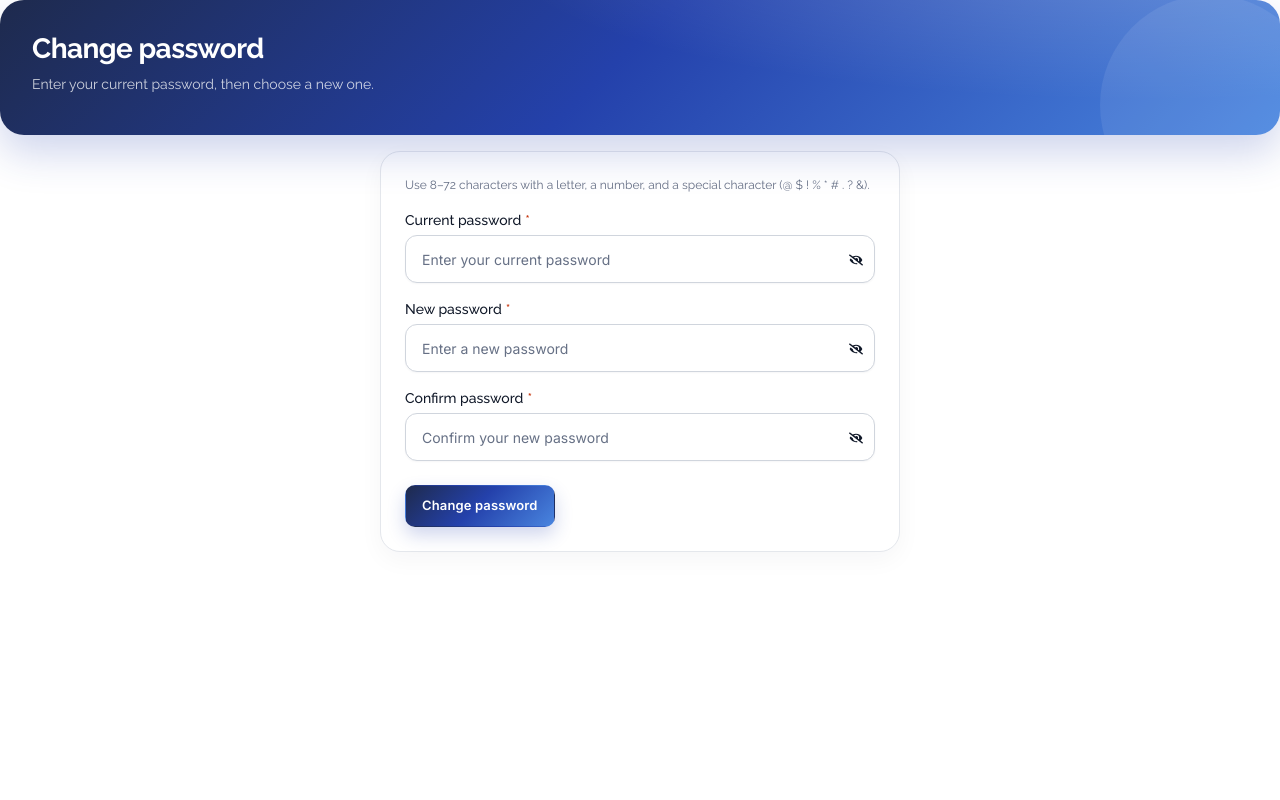
it: ChangePasswordPage › blocks submit when the new password matches the current password
Type "SamePassword1!" into the password field labelled "Current password" at (640, 259), box [405, 235, 875, 283]
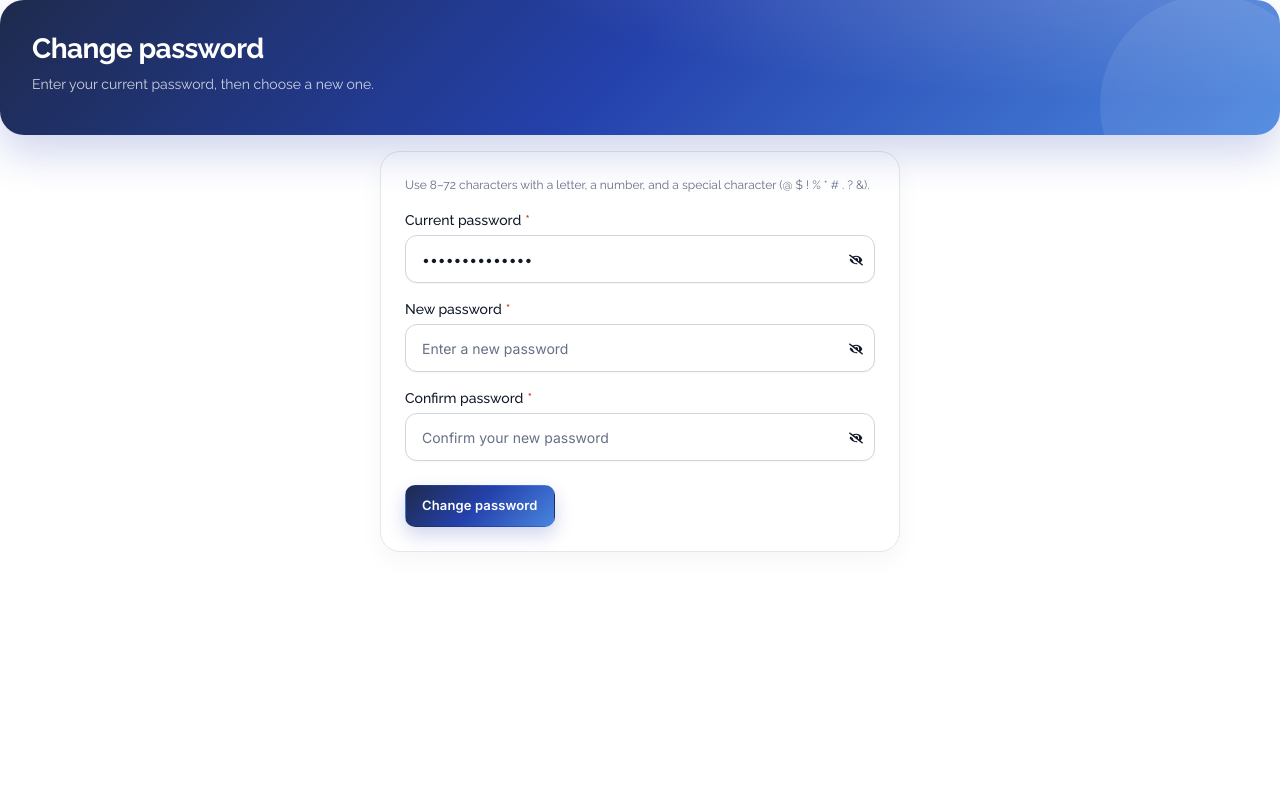
Type "SamePassword1!" into the password field labelled "New password" at (640, 348), box [405, 324, 875, 372]
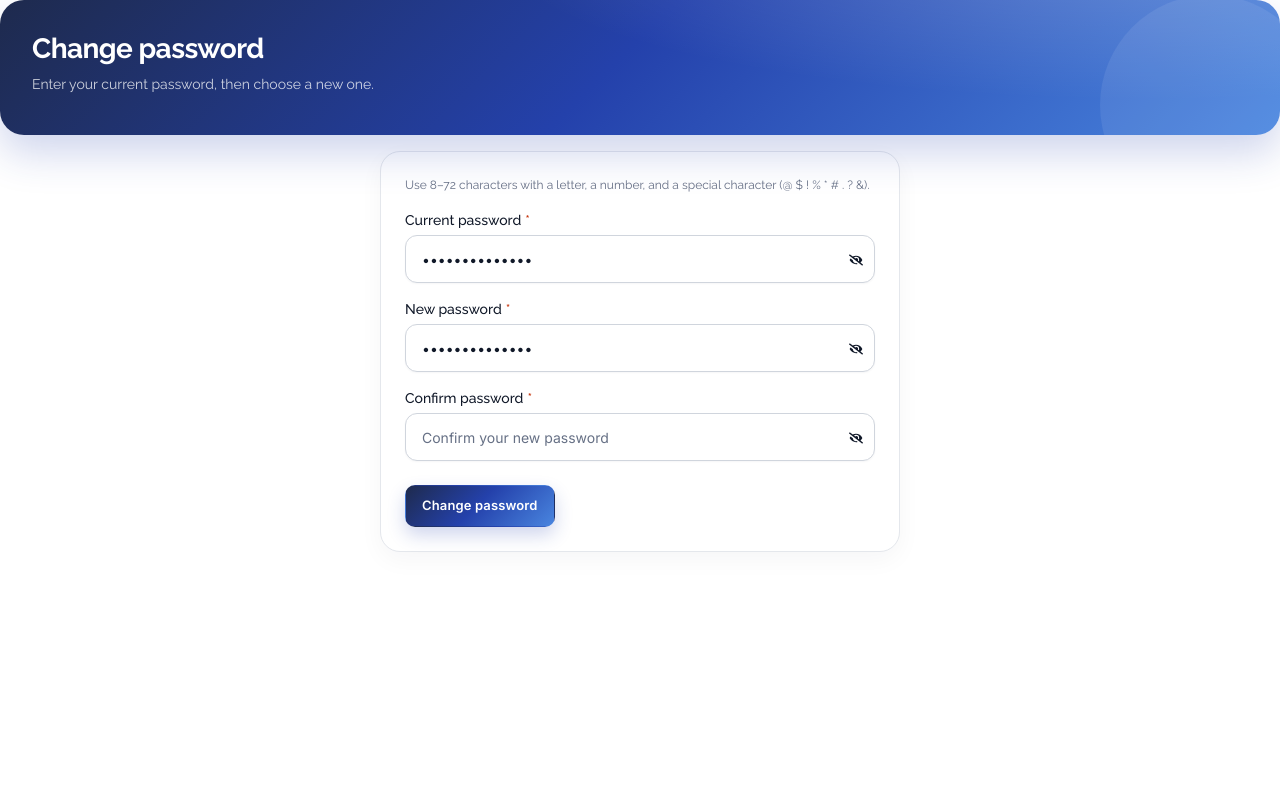
Type "SamePassword1!" into the password field labelled "Confirm password" at (640, 437), box [405, 413, 875, 461]
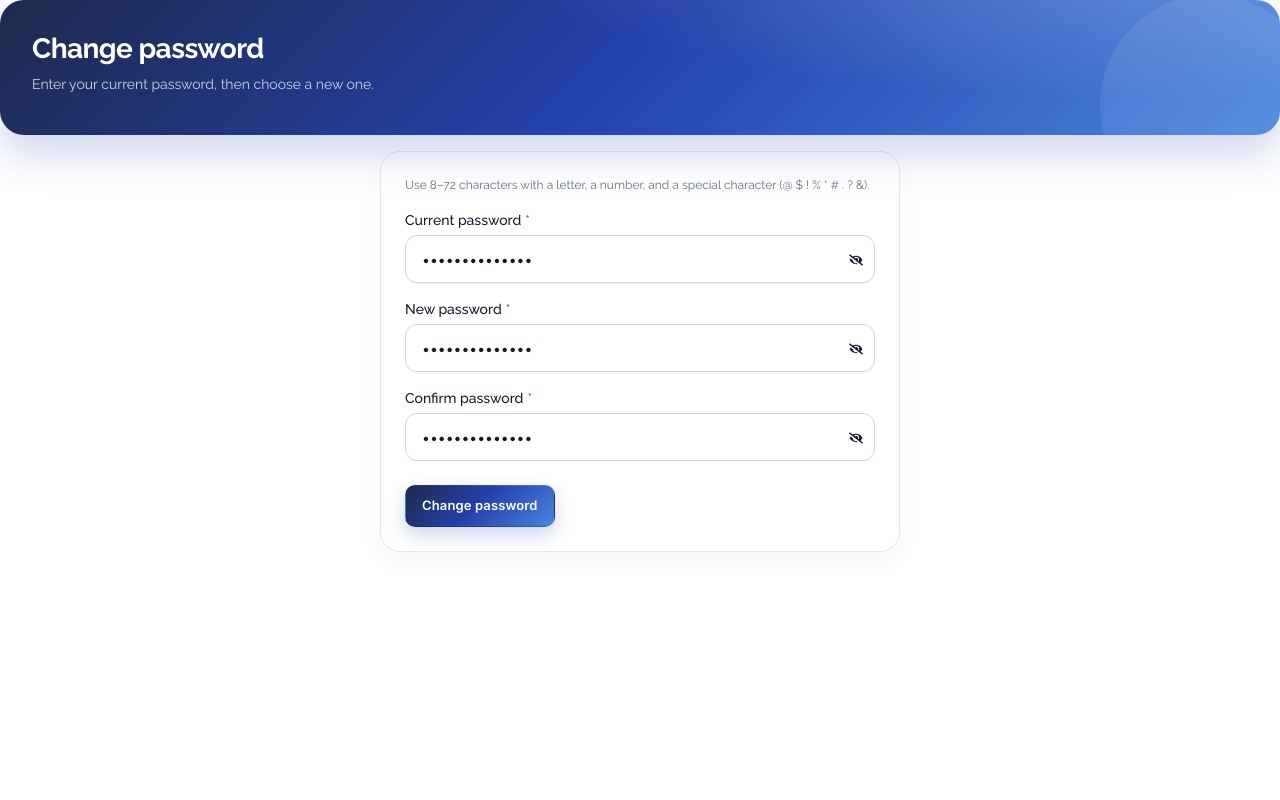
Click the button "Change password" at (480, 506), box [405, 485, 555, 526]
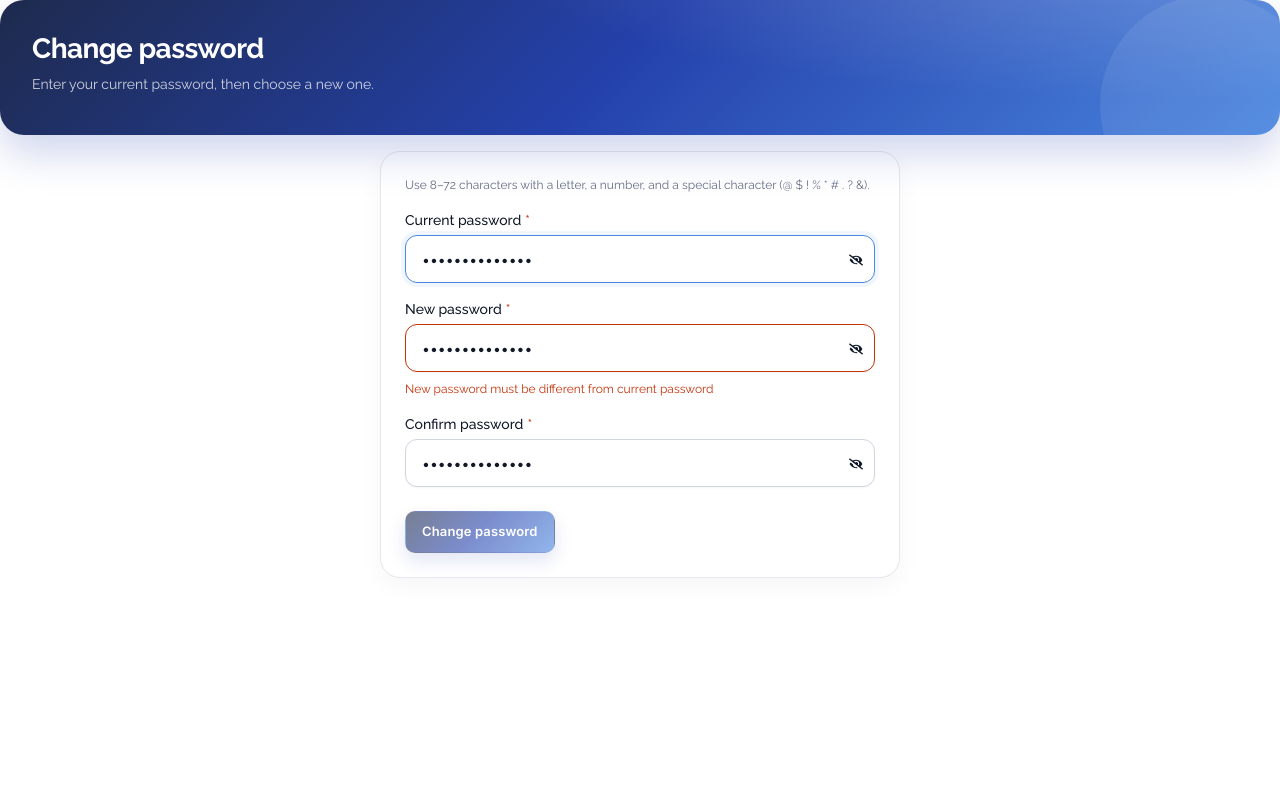
Check: the text "New password must be different from current password" is shown, box [405, 382, 714, 396]
